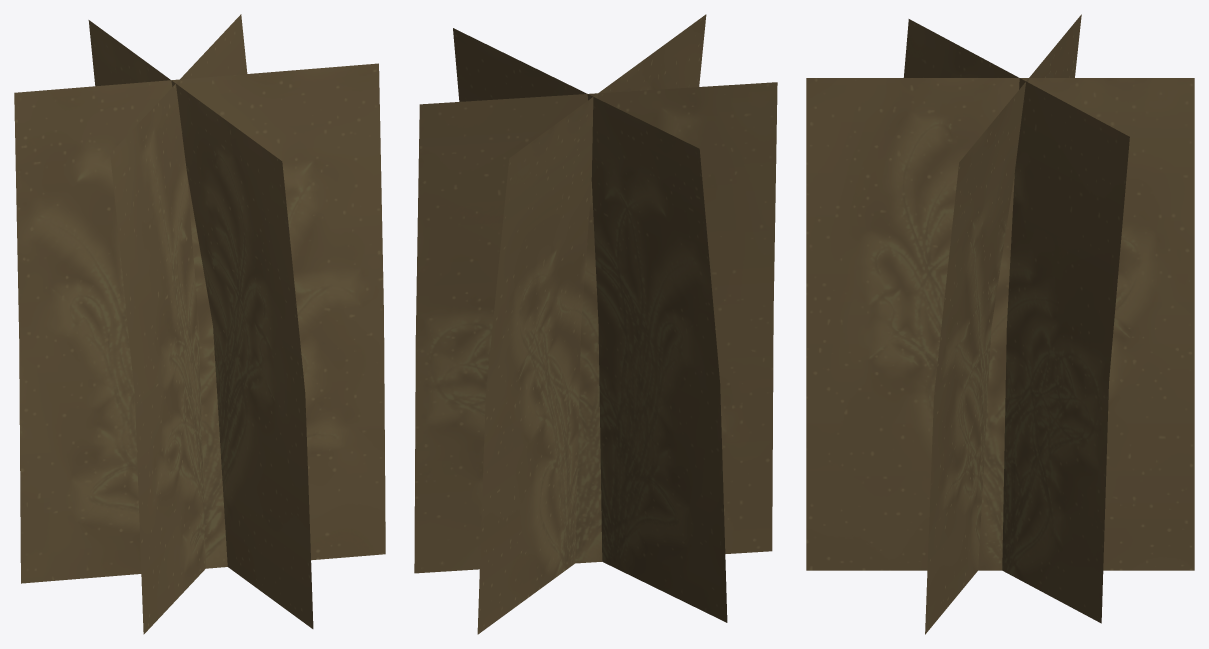
File: SM_Plant_3.fbx
3 renders of one model, left to right at view 1: azimuth 30°, elevation 25°; view 2: azimuth 150°, elevation 25°; view 3: azimuth 270°, elevation 25°, orthographic.
Parts seen in each view (by area): view 1: SM_Plant_3_LOD0; view 2: SM_Plant_3_LOD0; view 3: SM_Plant_3_LOD0.
Boxes of the visible parts, <box> form: SM_Plant_3_LOD0: <box>14,14,385,634</box>; SM_Plant_3_LOD0: <box>414,14,777,634</box>; SM_Plant_3_LOD0: <box>806,14,1194,634</box>.
Bounding box in the file's own units: 35.73 × 38.19 × 51.77.
1 material, 1 textured.
